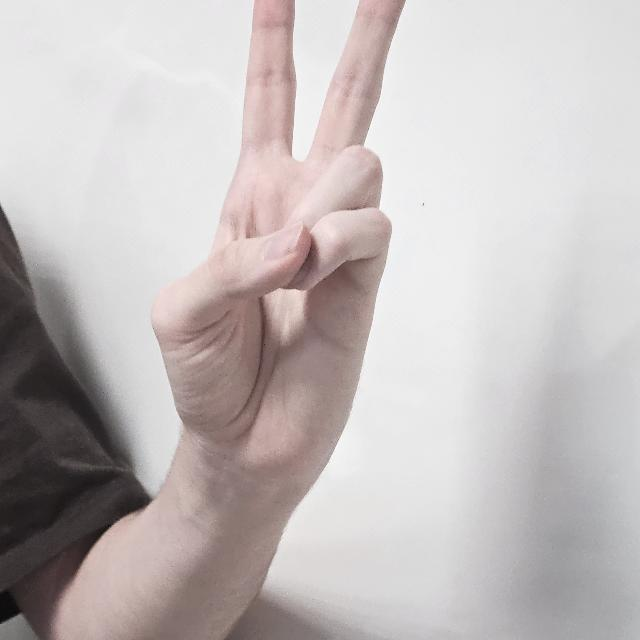Triangulo: (141, 4, 407, 506)
